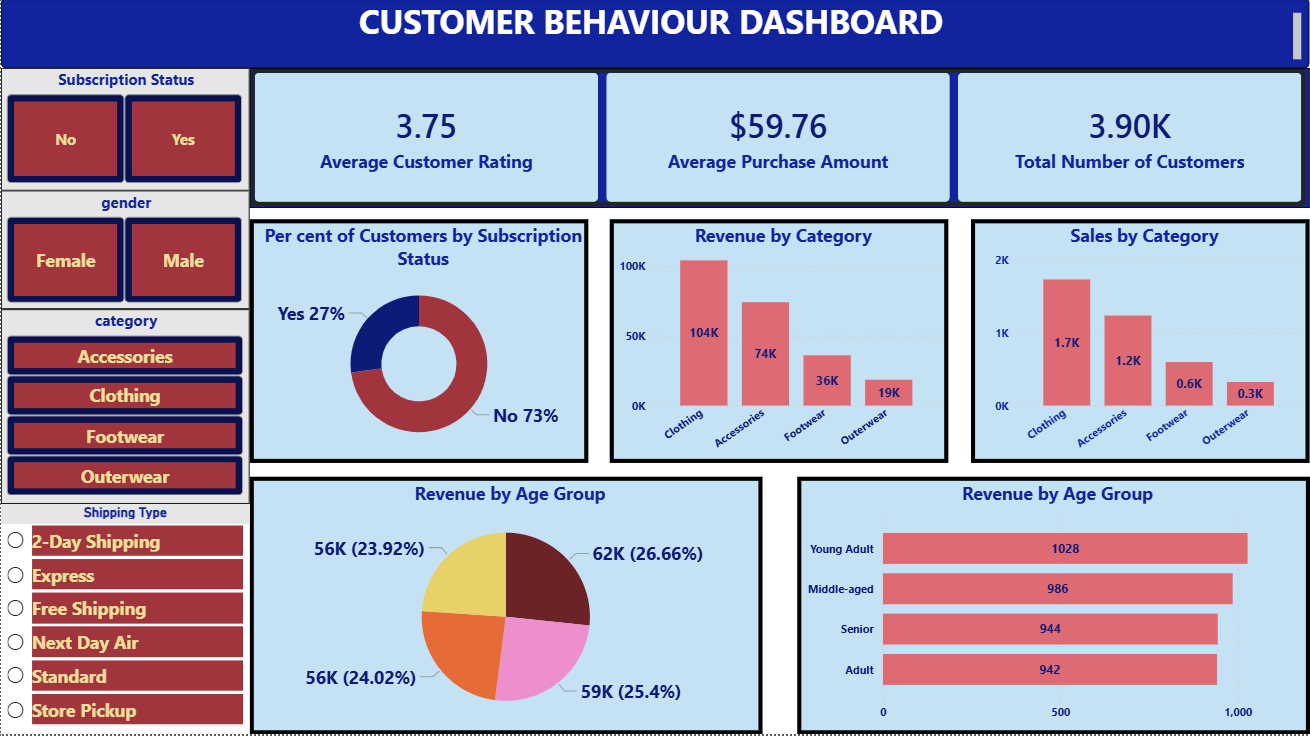

Layout of this report page (visuals, bound fields, positions):
{"tool":"powerbi","page":{"name":"Page 1","canvas":[1280,720],"ordinal":0},"visuals":[{"type":"cardVisual","title":"Average ","fields":{"Data":["public customer.Average Customer Rating","public customer.Average Purchase Amount","public customer.Total Number of Customers"]},"box":[243.3,68.5,1037,137],"z":1},{"type":"textbox","box":[0,0,1280.3,68.5],"z":2},{"type":"donutChart","title":"Per cent of Customers by Subscription Status","fields":{"Category":["public customer.subscription_status"],"Y":["CountNonNull(public customer.customer_id)"]},"box":[243.3,216.4,331.4,238.5],"z":3},{"type":"clusteredColumnChart","title":"Revenue by Category","fields":{"Category":["public customer.category"],"Y":["Sum(public customer.purchase_amount_usd)"]},"box":[595.5,216.4,331.4,238.5],"z":4},{"type":"clusteredColumnChart","title":"Sales by Category","fields":{"Category":["public customer.category"],"Y":["CountNonNull(public customer.item_purchased)"]},"box":[948.9,216.4,331.4,238.5],"z":5},{"type":"pieChart","title":"Revenue by Age Group","fields":{"Category":["public customer.age_group"],"Y":["Sum(public customer.purchase_amount_usd)"]},"box":[243.3,468.3,501.4,251.9],"z":6},{"type":"clusteredBarChart","title":"Revenue by Age Group","fields":{"Category":["public customer.age_group"],"Y":["CountNonNull(public customer.customer_id)"]},"box":[778.9,468.3,501.4,251.9],"z":7},{"type":"advancedSlicerVisual","title":"Subscription Status","fields":{"Values":["public customer.subscription_status"]},"box":[0,68.5,243.3,119.8],"z":8},{"type":"advancedSlicerVisual","fields":{"Values":["public customer.gender"]},"box":[0,188.3,243.3,116.2],"z":9},{"type":"advancedSlicerVisual","fields":{"Values":["public customer.category"]},"box":[0,304.5,243.3,190.8],"z":10},{"type":"listSlicer","title":"Shipping Type","fields":{"Values":["public customer.shipping_type"]},"box":[0,495.2,243.3,225],"z":11}]}

Visuals, with their boxes in screenshot pixels (x1, y1, x2, y2), scaled from the page's 1280x720 canvas onto the 1310x736 screenshot:
"Average " cardVisual: (left=249, top=70, right=1309, bottom=210)
textbox: (left=0, top=0, right=1309, bottom=70)
"Per cent of Customers by Subscription Status" donutChart: (left=249, top=221, right=588, bottom=465)
"Revenue by Category" clusteredColumnChart: (left=609, top=221, right=949, bottom=465)
"Sales by Category" clusteredColumnChart: (left=971, top=221, right=1309, bottom=465)
"Revenue by Age Group" pieChart: (left=249, top=479, right=762, bottom=735)
"Revenue by Age Group" clusteredBarChart: (left=797, top=479, right=1309, bottom=735)
"Subscription Status" advancedSlicerVisual: (left=0, top=70, right=249, bottom=192)
advancedSlicerVisual - public customer.gender: (left=0, top=192, right=249, bottom=311)
advancedSlicerVisual - public customer.category: (left=0, top=311, right=249, bottom=506)
"Shipping Type" listSlicer: (left=0, top=506, right=249, bottom=735)
